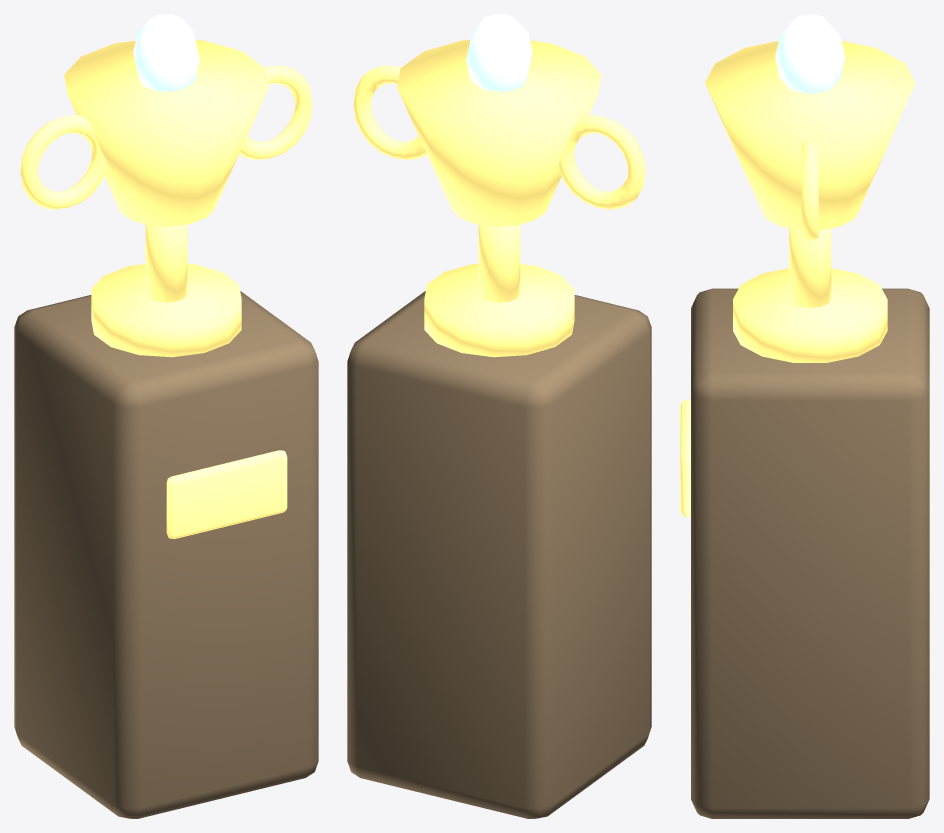
Rendered from home_trophy_v01.glb.
3 views of the same model, side by side, from view 1: azimuth 30°, elevation 25°; view 2: azimuth 150°, elevation 25°; view 3: azimuth 270°, elevation 25° (orthographic).
Visible parts, largest first — view 1: home_trophy_v01; view 2: home_trophy_v01; view 3: home_trophy_v01.
Part boxes in pixels (x1,y1,x2,y2): home_trophy_v01: [14, 14, 318, 818]; home_trophy_v01: [347, 14, 651, 818]; home_trophy_v01: [680, 14, 929, 818].
Size of the model in its own units: 0.488 by 1.19 by 0.355.
